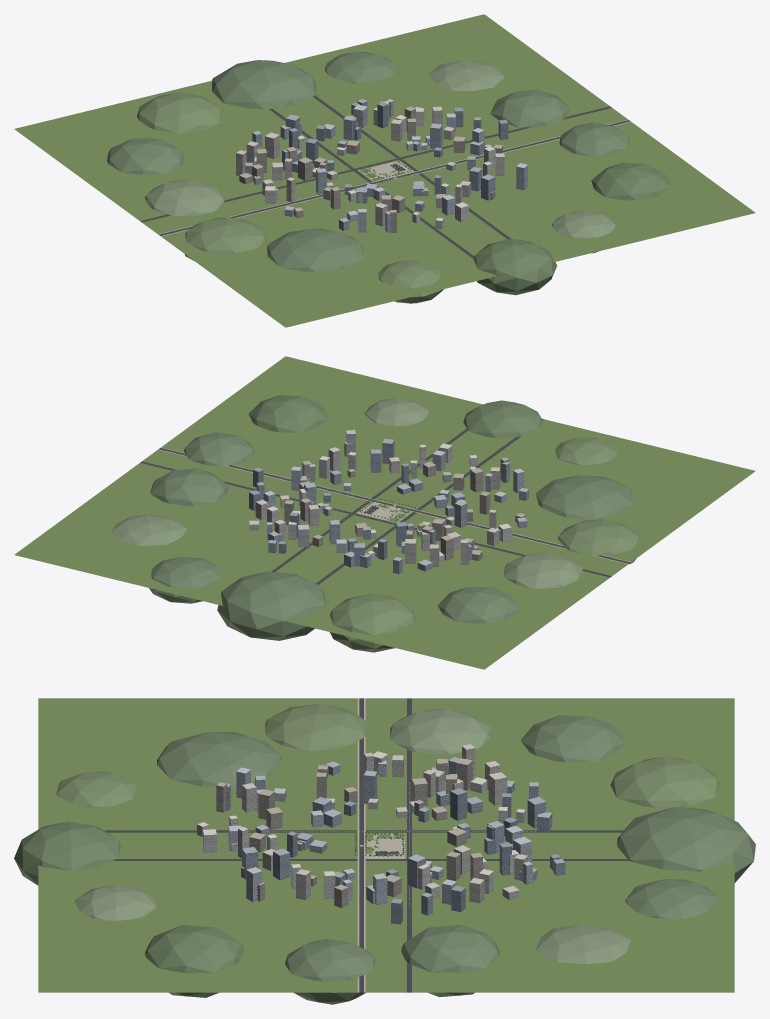
File: sede-200-entorno.glb
3 renders of one model, top to bottom at view 1: azimuth 30°, elevation 25°; view 2: azimuth 150°, elevation 25°; view 3: azimuth 270°, elevation 25°, orthographic. The views are drawn at different scales.
Parts seen in each view (by area): view 1: chao_grass_malha, praca_malha, cidade_malha, chao_asphalt_malha, chao_stone_malha; view 2: chao_grass_malha, praca_malha, cidade_malha, chao_asphalt_malha, chao_stone_malha; view 3: chao_grass_malha, praca_malha, cidade_malha, chao_asphalt_malha, chao_stone_malha, chao_paving_malha.
Part boxes in pixels (x1,y1,x2,y2): chao_grass_malha: (14, 14, 755, 327); praca_malha: (107, 52, 670, 303); cidade_malha: (236, 99, 527, 232); chao_asphalt_malha: (140, 95, 630, 275); chao_stone_malha: (158, 119, 630, 236); chao_grass_malha: (14, 356, 755, 669); praca_malha: (111, 394, 639, 652); cidade_malha: (249, 430, 528, 574); chao_asphalt_malha: (140, 419, 630, 584); chao_stone_malha: (158, 447, 630, 564); chao_grass_malha: (38, 698, 734, 992); praca_malha: (14, 698, 755, 1004); cidade_malha: (197, 744, 565, 924); chao_asphalt_malha: (104, 698, 629, 992); chao_stone_malha: (357, 698, 374, 992); chao_paving_malha: (365, 833, 405, 858).
Size of the model in its own units: 1400 by 156 by 1492.
Materials: 9 (5 with a texture image).
